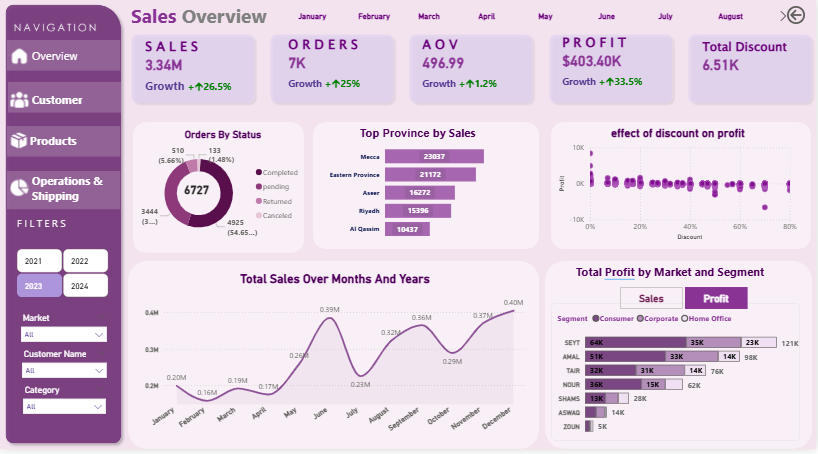

What the dashboard file says about the page in this screenshot:
{"tool":"powerbi","page":{"name":"Sales Overview","canvas":[1360,750],"ordinal":0},"visuals":[{"type":"shape","box":[918.3,205,433.3,211.7],"z":0},{"type":"shape","box":[907.8,51,220,129],"z":1000},{"type":"shape","box":[221.7,205,285,218.3],"z":2000},{"type":"shape","box":[213.3,436.7,685,313.3],"z":3000},{"type":"shape","box":[521.7,205,376.7,211.7],"z":4000},{"type":"shape","box":[908.3,436.7,445,313.3],"z":5000},{"type":"shape","box":[0,0,211.2,750],"z":6000},{"type":"shape","box":[11.2,68.8,188.8,51.2],"z":7000},{"type":"textbox","box":[214,0,265,59],"z":8000},{"type":"image","box":[16.1,35.7,150.9,30],"z":9000},{"type":"advancedSlicerVisual","fields":{"Values":["DimDate.Year"]},"box":[22.5,391.2,162.5,131.2],"z":10000},{"type":"textbox","box":[22.5,358.8,102.5,32.5],"z":11000},{"type":"actionButton","box":[13.8,67.5,163.8,53.8],"z":12000},{"type":"shape","box":[12.5,138.8,188.8,51.2],"z":13000},{"type":"shape","box":[11.2,211.2,188.8,51.2],"z":14000},{"type":"shape","box":[11.2,286.2,188.8,63.8],"z":15000},{"type":"actionButton","box":[13.8,139.3,165.9,55.3],"z":16000},{"type":"actionButton","box":[9.2,209.1,164.8,54.1],"z":17000},{"type":"actionButton","box":[12.5,277.5,165,72.5],"z":18000},{"type":"slicer","fields":{"Values":["Customers.customer Name"]},"box":[26.2,577.5,161.2,60],"z":19000},{"type":"slicer","fields":{"Values":["DimMarkets.Market"]},"box":[25,517.5,162.5,60],"z":20000},{"type":"slicer","fields":{"Values":["Products.Category"]},"box":[27.5,637.5,157.5,56.2],"z":21000},{"type":"shape","box":[211,51,220,129],"z":22000},{"type":"shape","box":[443.2,51,220,129],"z":23000},{"type":"shape","box":[675.5,51,220,129],"z":24000},{"type":"shape","box":[1140,51,220,129],"z":25000},{"type":"cardVisual","fields":{"Data":["Measures (2).A O V"]},"box":[686.7,58.3,195,118.3],"z":27000},{"type":"lineChart","title":"Total Sales Over Months And Years","fields":{"Category":["DimDate.Date.Variation.Date Hierarchy.Year","DimDate.Date.Variation.Date Hierarchy.Month"],"Y":["Measures (2).S A L E S"]},"box":[230,445,646.7,293.3],"z":28000},{"type":"donutChart","title":"Orders By Status","fields":{"Category":["status.Status"],"Y":["Measures (2).O R D E R S"]},"box":[226.7,205,280,208.3],"z":29000},{"type":"card","fields":{"Values":["Measures (2).O R D E R S"]},"box":[288,296,78,44],"z":30000},{"type":"cardVisual","fields":{"Data":["Measures (2).S A L E S"]},"box":[225,60,192,120],"z":31000},{"type":"cardVisual","fields":{"Data":["Measures (2).Total Profit"]},"box":[920,55,195,118.3],"z":32000},{"type":"cardVisual","fields":{"Data":["Measures (2).O R D E R S"]},"box":[463,58,180,118],"z":33000},{"type":"cardVisual","fields":{"Data":["Measures (2).Total Discount"]},"box":[1153.3,53.3,180,80],"z":34000},{"type":"barChart","fields":{"Category":["markets.Market"],"Series":["Dim segment.Segment"],"Y":["Measures (2).P R O F I T"]},"box":[918.3,506.7,415,230],"z":35000},{"type":"actionButton","box":[1306.7,6.7,53.3,40],"z":36000},{"type":"advancedSlicerVisual","fields":{"Values":["Parameter 2.Parameter"]},"box":[1031.7,478.3,216.7,40],"z":37000},{"type":"textbox","box":[955,436.7,351.7,41.7],"z":38000},{"type":"textbox","box":[595,205,216.7,45],"z":39000},{"type":"barChart","title":"Top 10 Customers  By Total Orders","fields":{"Category":["Dim provice_city.Provice"],"Y":["Measures (2).S A L E S","Measures (2).O R D E R S"]},"box":[546.7,228.3,311.7,181.7],"z":40000},{"type":"advancedSlicerVisual","fields":{"Values":["DimDate.Month"]},"box":[465,6.7,855,43.3],"z":41000},{"type":"scatterChart","title":"effect of discount on profit","fields":{"X":["Fact_Orders.Discount"],"Y":["Fact_Orders.Profit"]},"box":[926.7,211.7,406.7,195],"z":42000}]}

Visuals, with their boxes on the page's 1360x750 design canvas (x1, y1, x2, y2). These are canvas units, not pixel positions in the 818x454 screenshot, which may show the page scaled, cropped or inside an application window:
shape: box=[918, 205, 1352, 417]
shape: box=[908, 51, 1128, 180]
shape: box=[222, 205, 507, 423]
shape: box=[213, 437, 898, 750]
shape: box=[522, 205, 898, 417]
shape: box=[908, 437, 1353, 750]
shape: box=[0, 0, 211, 750]
shape: box=[11, 69, 200, 120]
textbox: box=[214, 0, 479, 59]
image: box=[16, 36, 167, 66]
advancedSlicerVisual - DimDate.Year: box=[22, 391, 185, 522]
textbox: box=[22, 359, 125, 391]
actionButton: box=[14, 68, 178, 121]
shape: box=[12, 139, 201, 190]
shape: box=[11, 211, 200, 262]
shape: box=[11, 286, 200, 350]
actionButton: box=[14, 139, 180, 195]
actionButton: box=[9, 209, 174, 263]
actionButton: box=[12, 278, 178, 350]
slicer - Customers.customer Name: box=[26, 578, 187, 638]
slicer - DimMarkets.Market: box=[25, 518, 188, 578]
slicer - Products.Category: box=[28, 638, 185, 694]
shape: box=[211, 51, 431, 180]
shape: box=[443, 51, 663, 180]
shape: box=[676, 51, 896, 180]
shape: box=[1140, 51, 1360, 180]
cardVisual - Measures (2).A O V: box=[687, 58, 882, 177]
"Total Sales Over Months And Years" lineChart: box=[230, 445, 877, 738]
"Orders By Status" donutChart: box=[227, 205, 507, 413]
card - Measures (2).O R D E R S: box=[288, 296, 366, 340]
cardVisual - Measures (2).S A L E S: box=[225, 60, 417, 180]
cardVisual - Measures (2).Total Profit: box=[920, 55, 1115, 173]
cardVisual - Measures (2).O R D E R S: box=[463, 58, 643, 176]
cardVisual - Measures (2).Total Discount: box=[1153, 53, 1333, 133]
barChart - markets.Market x Dim segment.Segment: box=[918, 507, 1333, 737]
actionButton: box=[1307, 7, 1360, 47]
advancedSlicerVisual - Parameter 2.Parameter: box=[1032, 478, 1248, 518]
textbox: box=[955, 437, 1307, 478]
textbox: box=[595, 205, 812, 250]
"Top 10 Customers  By Total Orders" barChart: box=[547, 228, 858, 410]
advancedSlicerVisual - DimDate.Month: box=[465, 7, 1320, 50]
"effect of discount on profit" scatterChart: box=[927, 212, 1333, 407]
